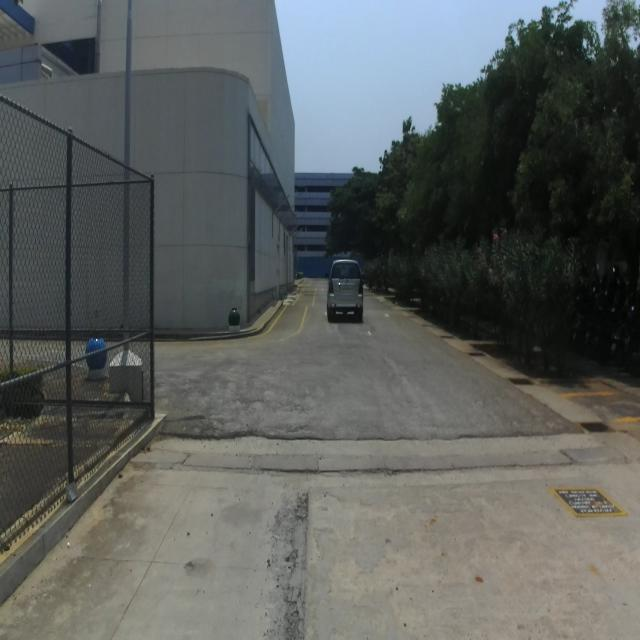car ahead at: (327, 253, 365, 324)
